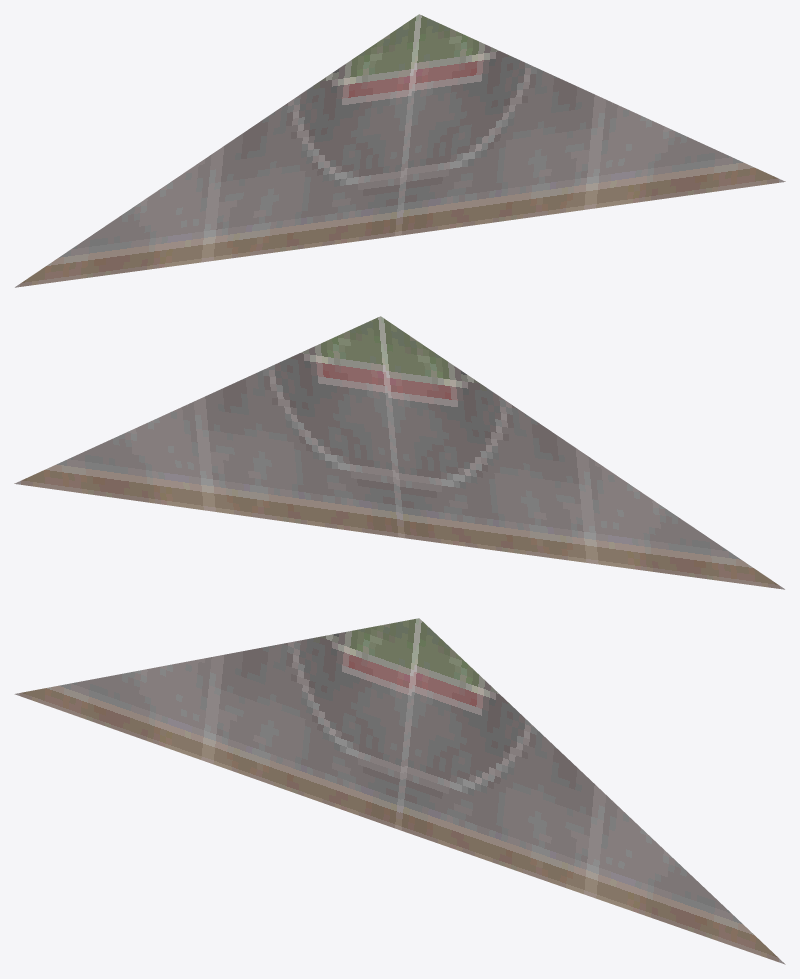
File: truss01.glb
3 renders of one model, top to bottom at view 1: azimuth 30°, elevation 25°; view 2: azimuth 150°, elevation 25°; view 3: azimuth 330°, elevation 25°, orthographic.
Visible parts, largest first — view 1: truss01; view 2: truss01; view 3: truss01.
Part boxes in pixels (x1,y1,x2,y2): truss01: (15, 14, 785, 287); truss01: (14, 316, 784, 589); truss01: (14, 618, 785, 964).
Size of the model in its own units: 807 by 257 by 0.
1 material, 1 textured.
